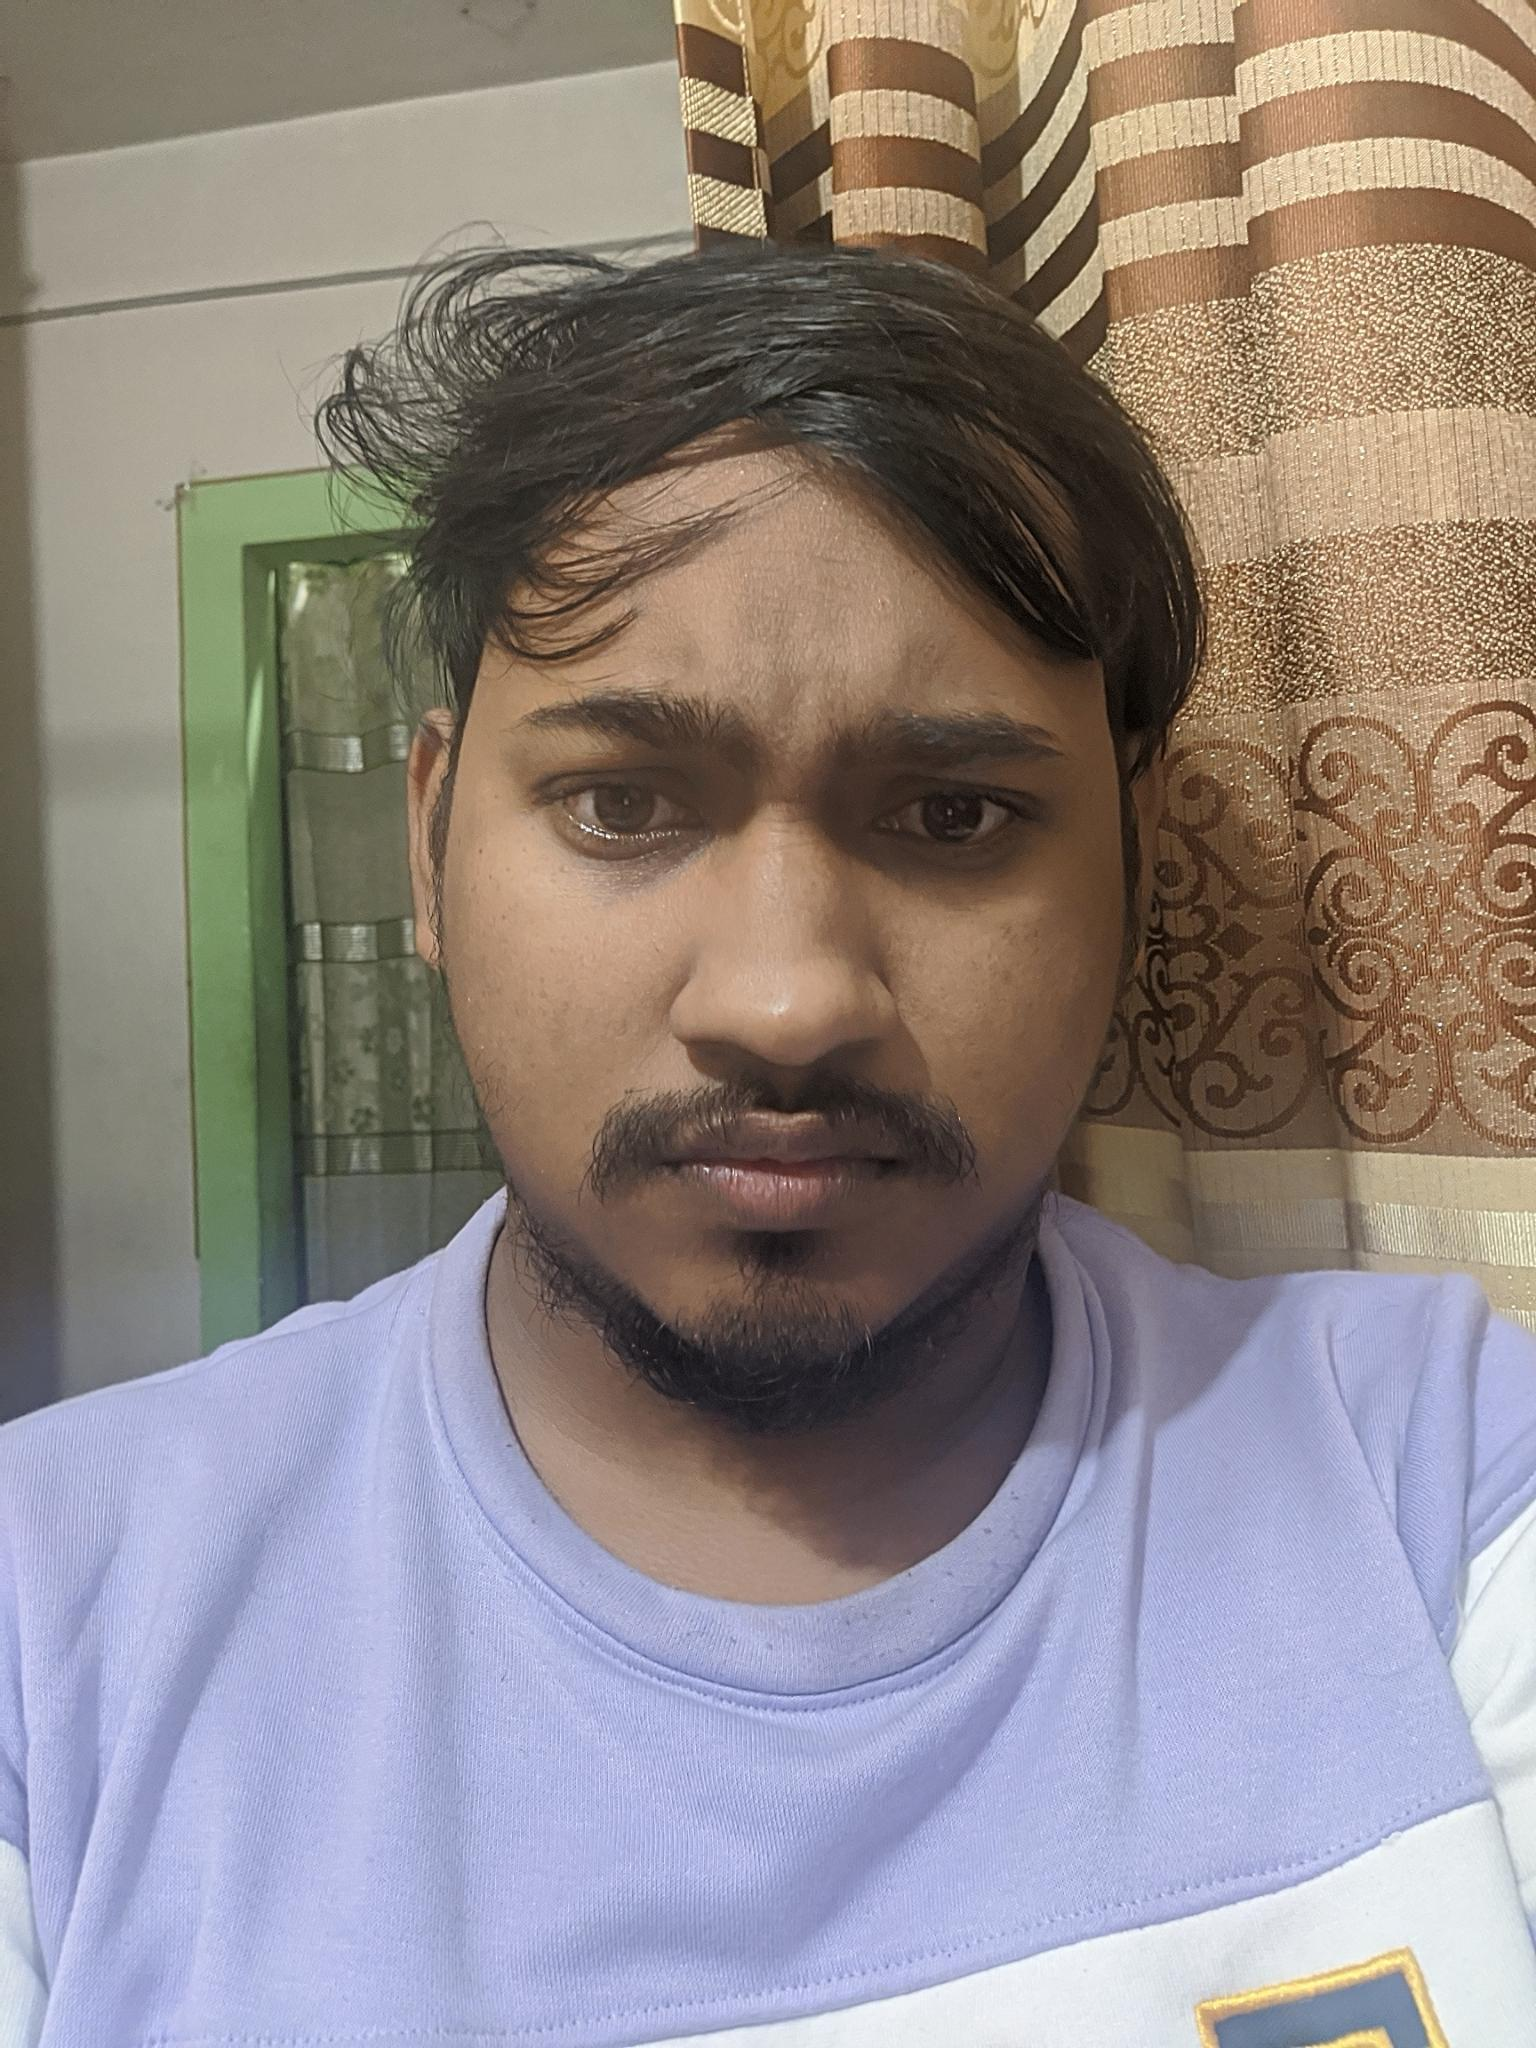Angry: (434, 592, 1179, 1311)
